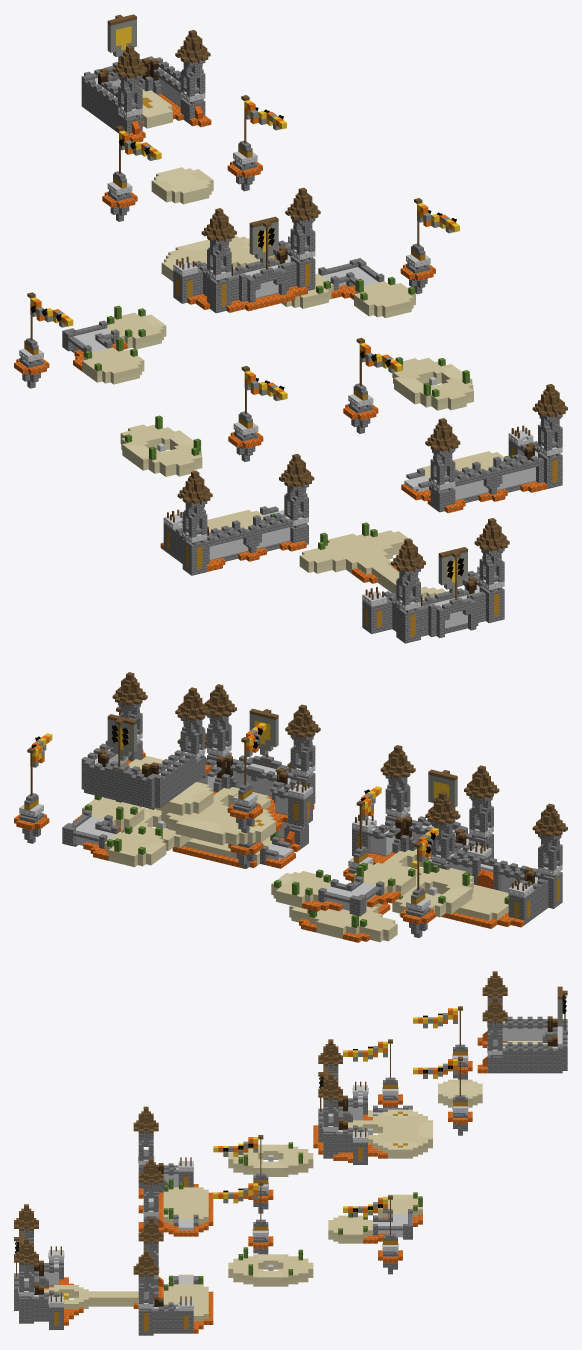
Rendered from minecraft.obj.
3 views of the same model, one above another, from view 1: azimuth 30°, elevation 25°; view 2: azimuth 150°, elevation 25°; view 3: azimuth 270°, elevation 25° (orthographic). The views are drawn at different scales.
Bounding box in the file's own units: 79.85 × 70 × 111.
